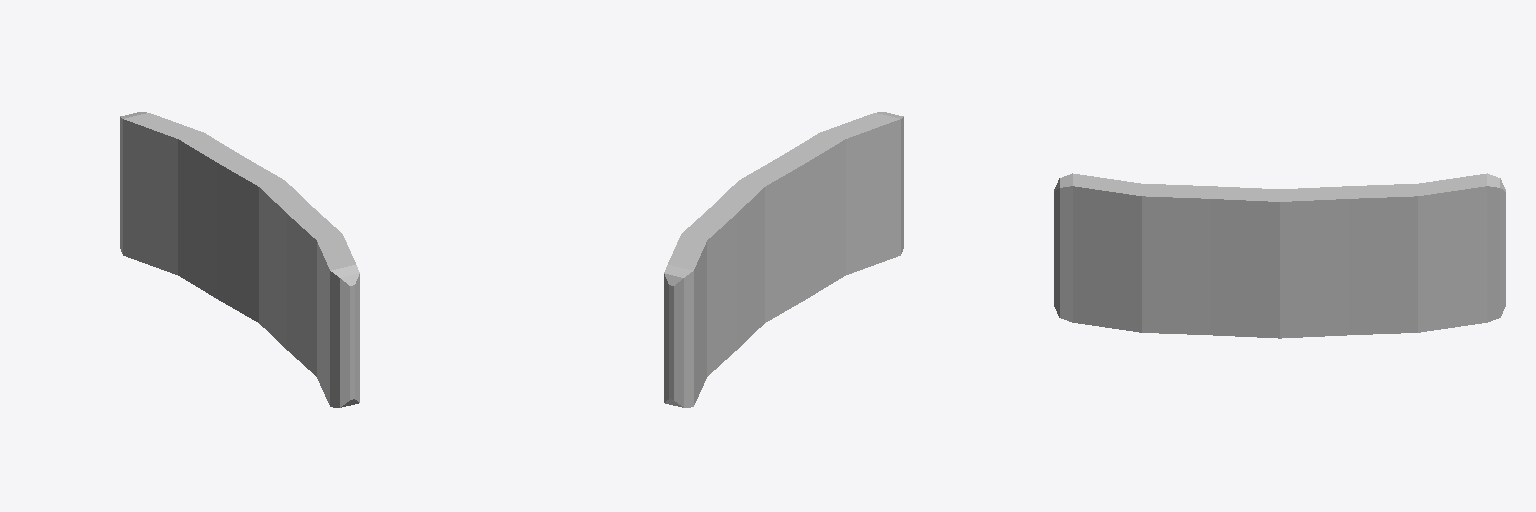
File: Ball Door Curve.obj
The picture shows the model from 3 angles: view 1: azimuth 30°, elevation 25°; view 2: azimuth 150°, elevation 25°; view 3: azimuth 270°, elevation 25°; orthographic projection.
Parts seen in each view (by area): view 1: Cube; view 2: Cube; view 3: Cube.
Boxes of the visible parts, x1,y1,x2,y2 form: Cube: [120, 112, 359, 407]; Cube: [664, 112, 903, 407]; Cube: [1054, 173, 1505, 338].
Bounding box in the file's own units: 0.45 × 1 × 3.